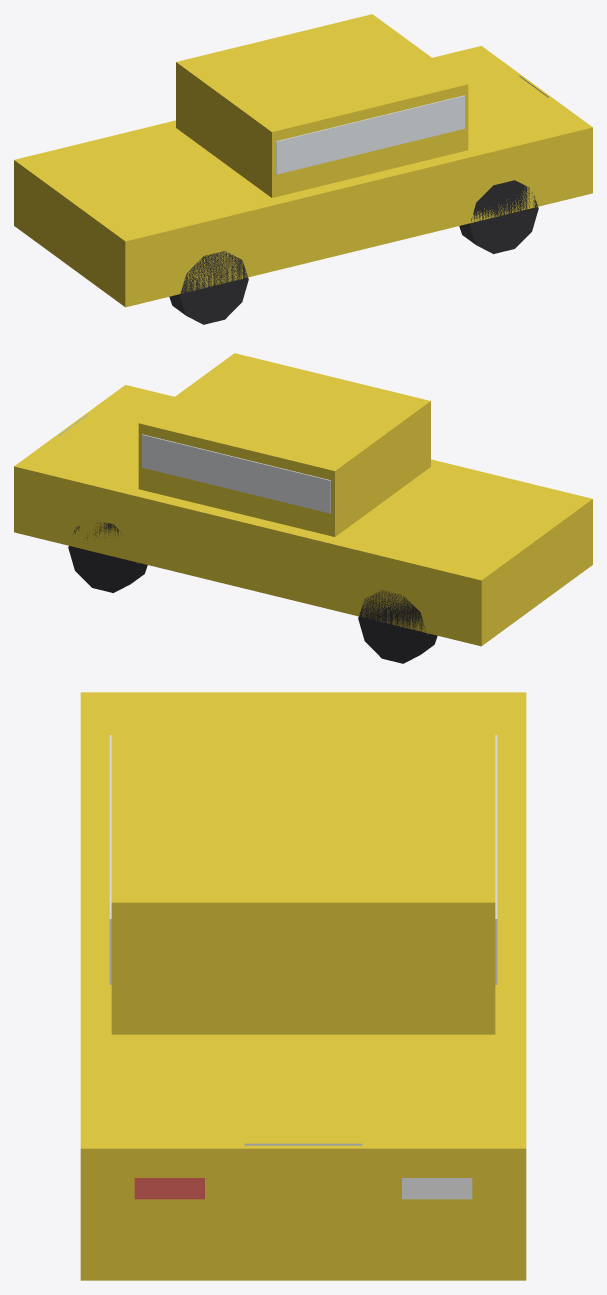
File: Vehsedan_0000027.fbx
The picture shows the model from 3 angles, top to bottom: view 1: azimuth 30°, elevation 25°; view 2: azimuth 150°, elevation 25°; view 3: azimuth 270°, elevation 25°; orthographic projection. The views are drawn at different scales.
Parts seen in each view (by area): view 1: Vehsedan_0000027; view 2: Vehsedan_0000027; view 3: Vehsedan_0000027.
Boxes of the visible parts, x1,y1,x2,y2 form: Vehsedan_0000027: (14, 14, 592, 324); Vehsedan_0000027: (14, 353, 592, 663); Vehsedan_0000027: (80, 692, 526, 1280).
Size of the model in its own units: 461 by 190 by 158.
